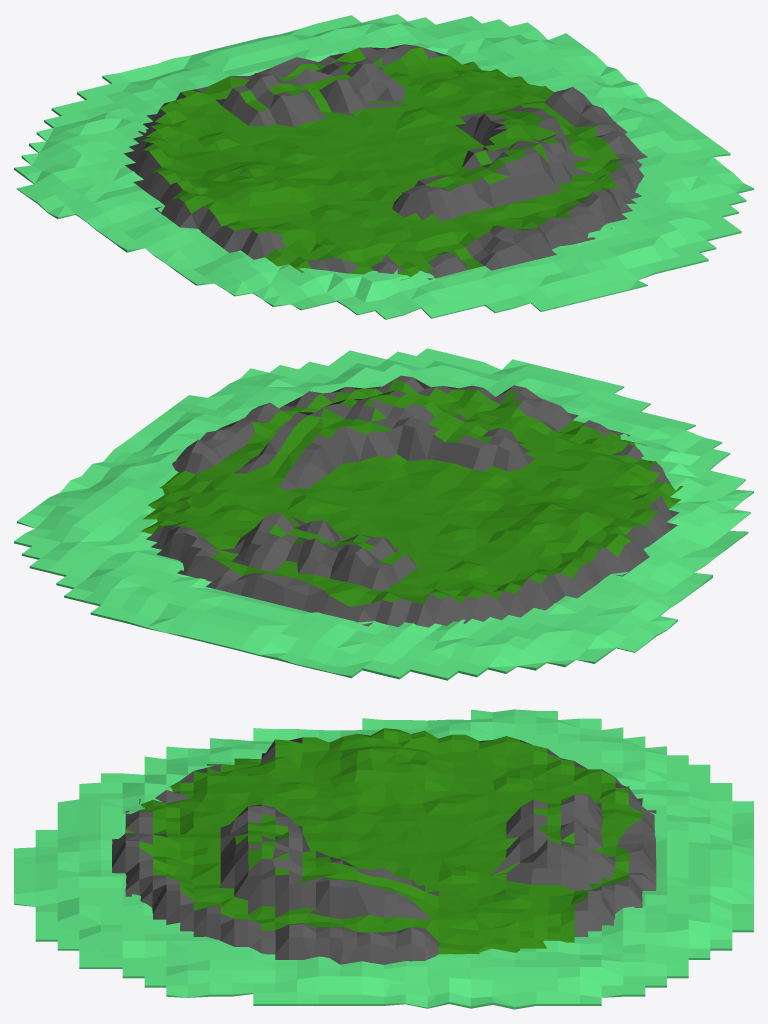
File: island_02_7.fbx
The picture shows the model from 3 angles, top to bottom: view 1: azimuth 30°, elevation 25°; view 2: azimuth 150°, elevation 25°; view 3: azimuth 270°, elevation 25°; orthographic projection. The views are drawn at different scales.
Visible parts, largest first — view 1: land, Sand; view 2: land, Sand; view 3: land, Sand.
Part boxes in pixels (x1,y1,x2,y2): land: (123, 44, 647, 280); Sand: (14, 14, 753, 319); land: (141, 375, 683, 627); Sand: (14, 348, 753, 680); land: (112, 728, 656, 964); Sand: (14, 709, 753, 1009).
Bounding box in the file's own units: 18732 × 1763 × 19902.
